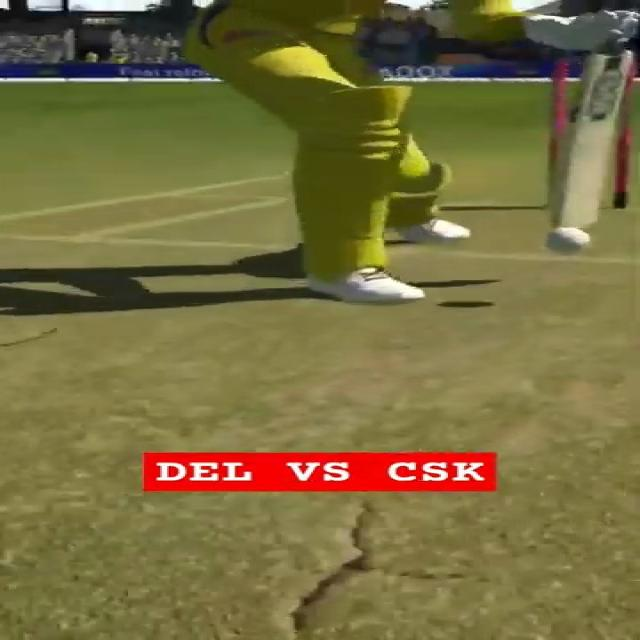ball: (542, 228, 592, 255)
